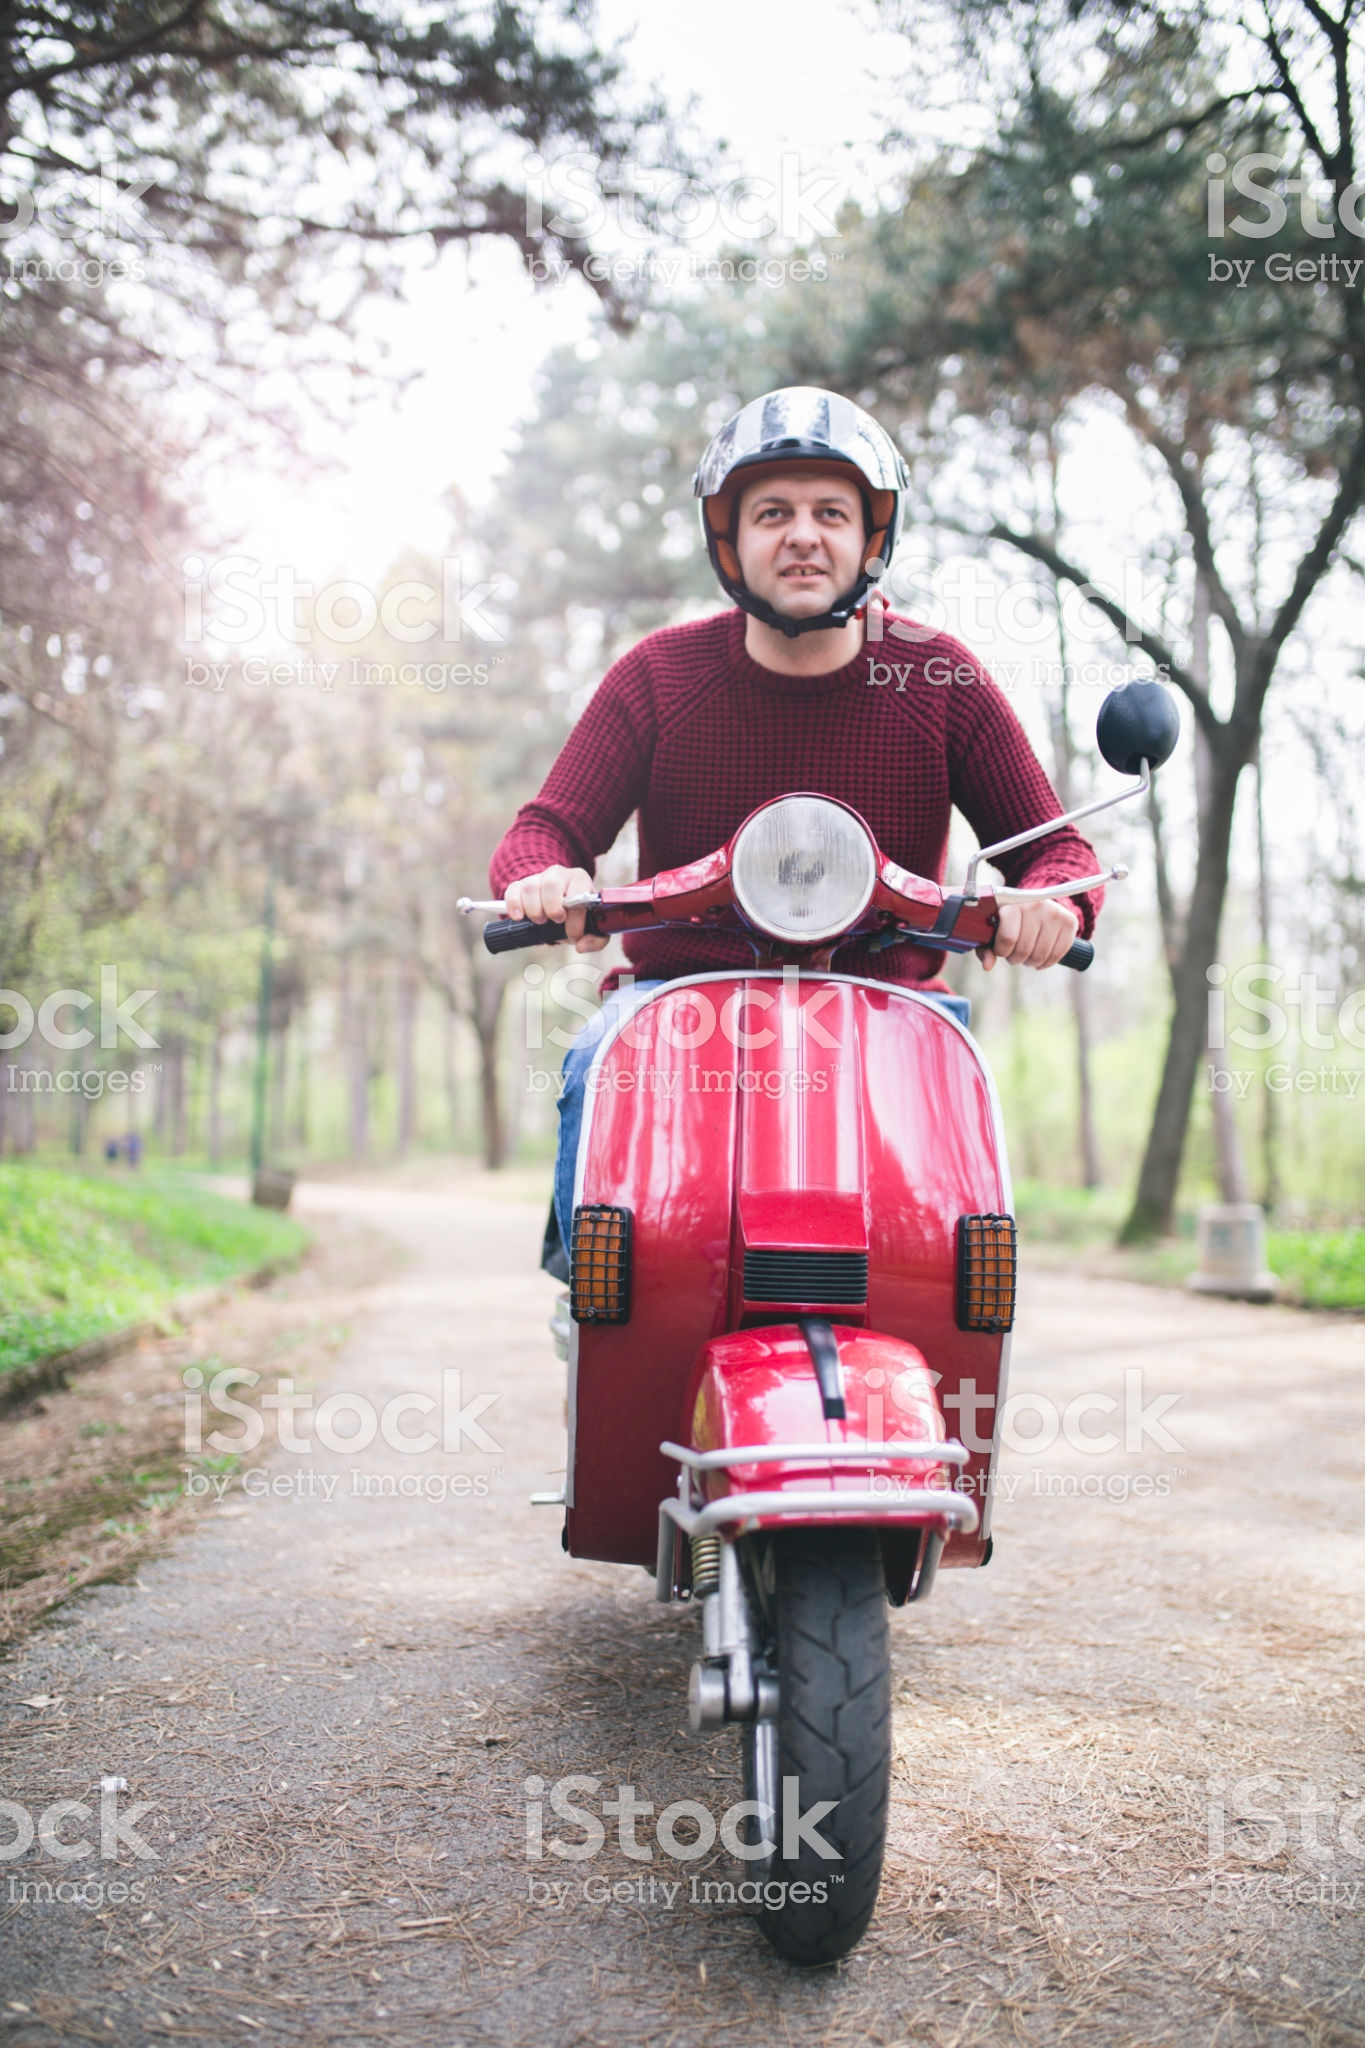helmet: (682, 416, 938, 644)
